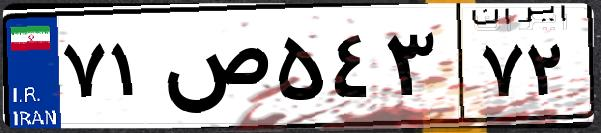1: (110, 28, 158, 98)
2: (525, 38, 570, 115)
3: (385, 28, 445, 110)
4: (330, 28, 385, 110)
5: (270, 28, 330, 110)
7: (57, 26, 110, 100), (475, 38, 525, 113)
ص: (158, 20, 270, 120)
